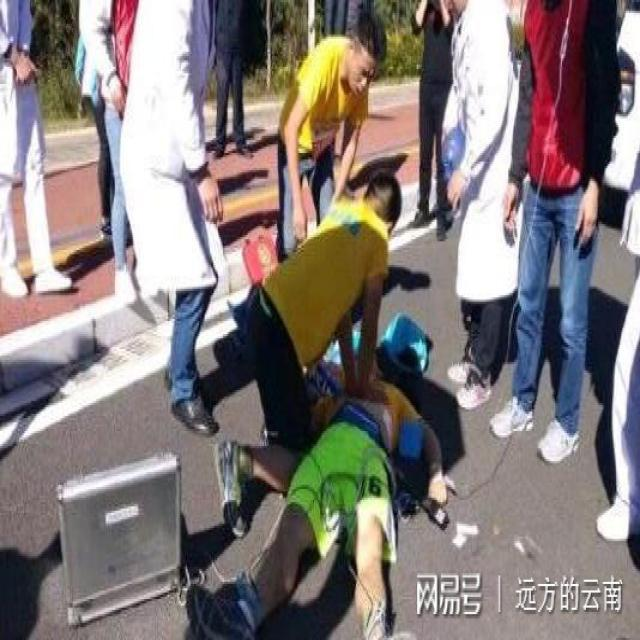10-: (0, 0, 635, 625)
down: (187, 334, 422, 621)
